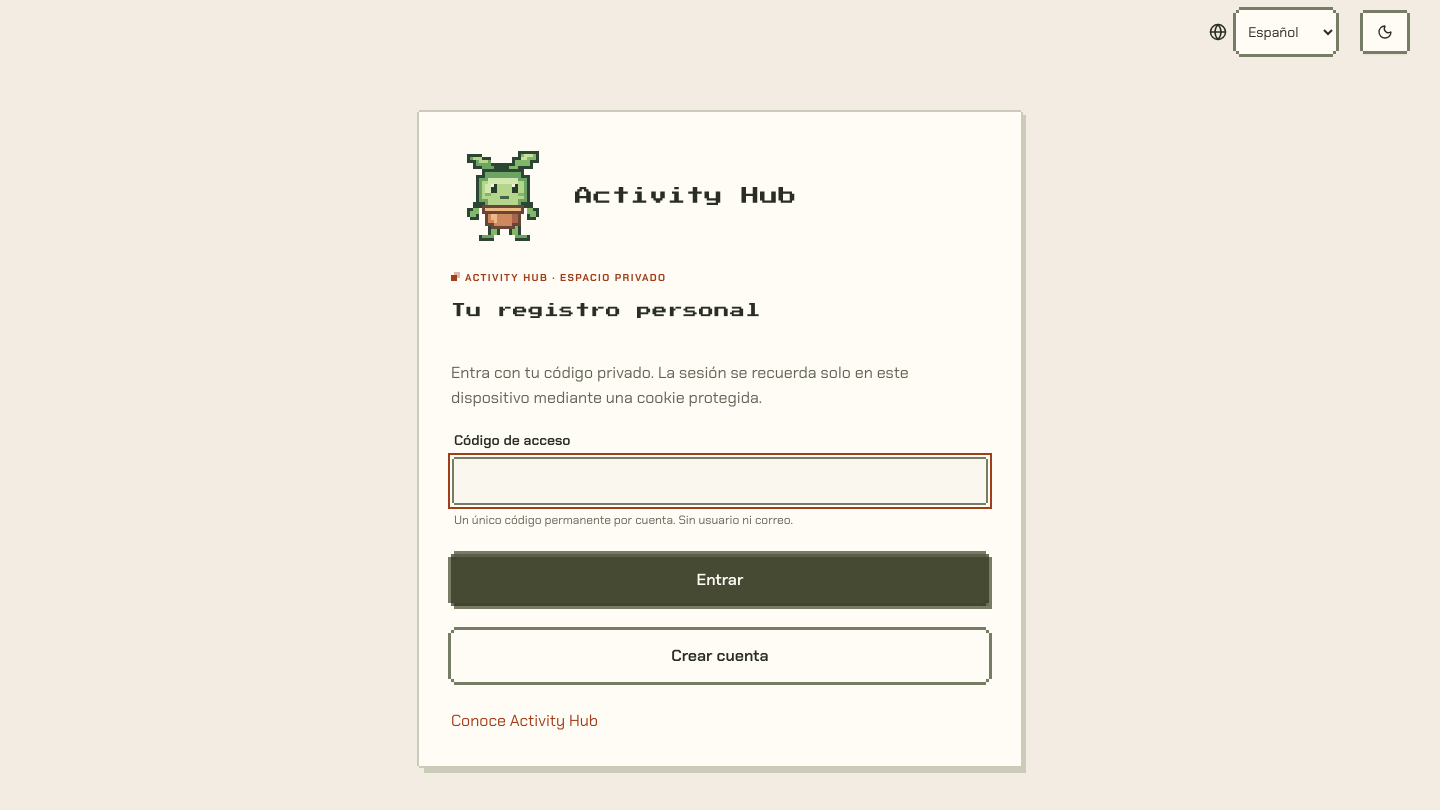
it: Interfaz bilingüe sin reiniciar la aplicación › traduce un error ya mostrado y conserva el límite de intentos
Type "ABCD-EFGH-JKLM-NPQR-STUV-WXYZ-2345-6789" into the password field labelled "Código de acceso" at (720, 481), box [454,459,986,503]
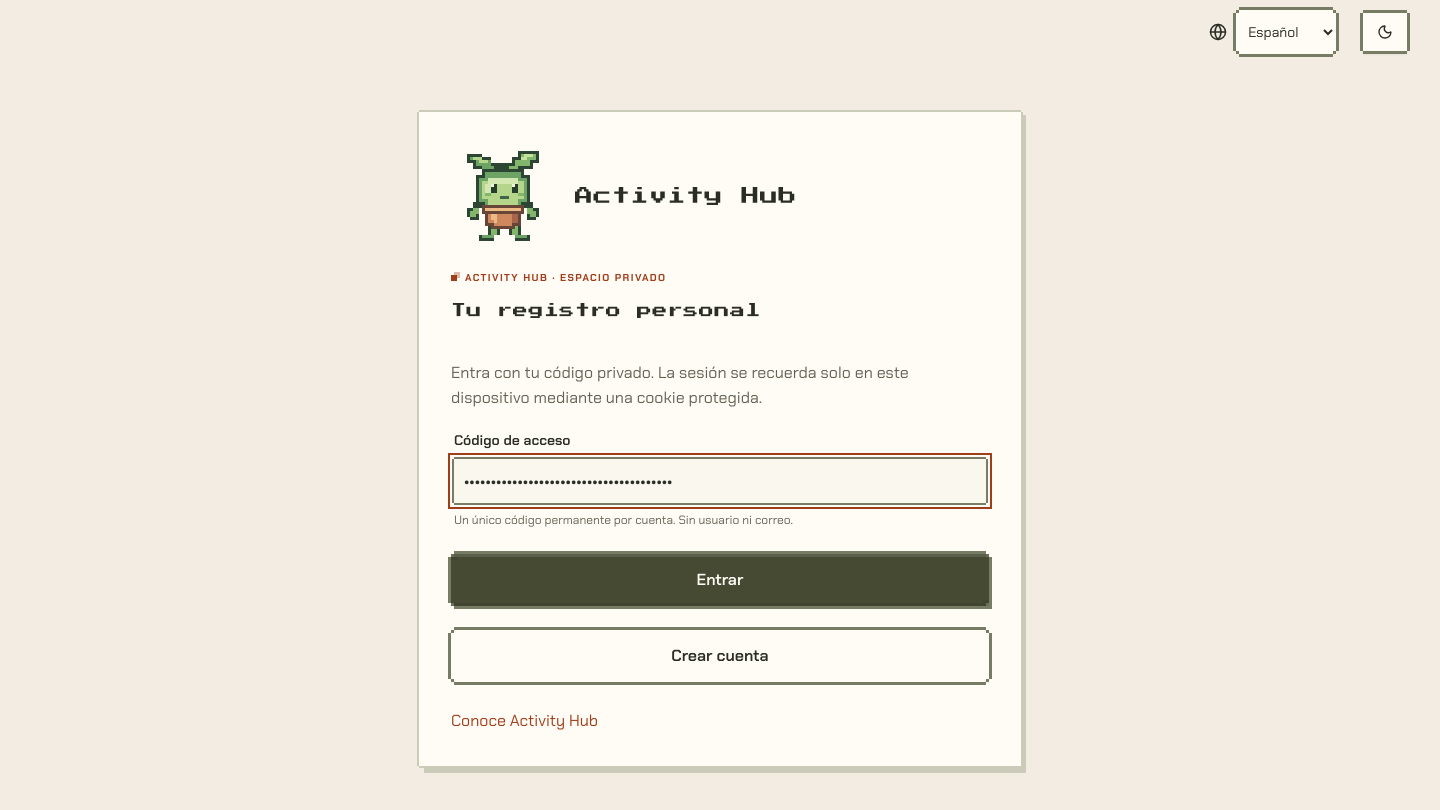
Click the button "Entrar" at (720, 580), box [451,554,989,606]
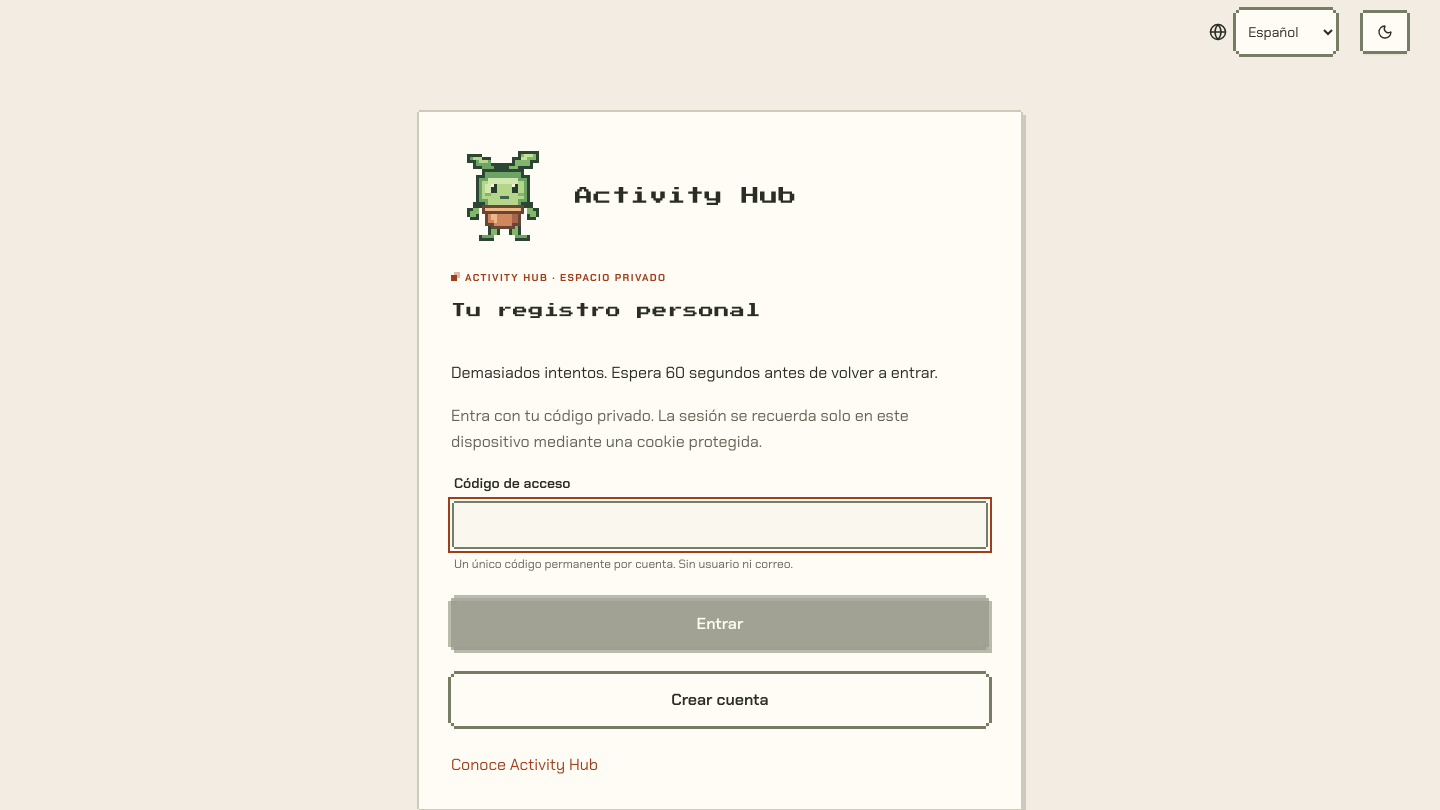
Expected: the text "Demasiados intentos" is shown, [451,362,938,382]
Select "English" in the dropdown named "Idioma" at (1286, 32), box [1236,10,1336,54]
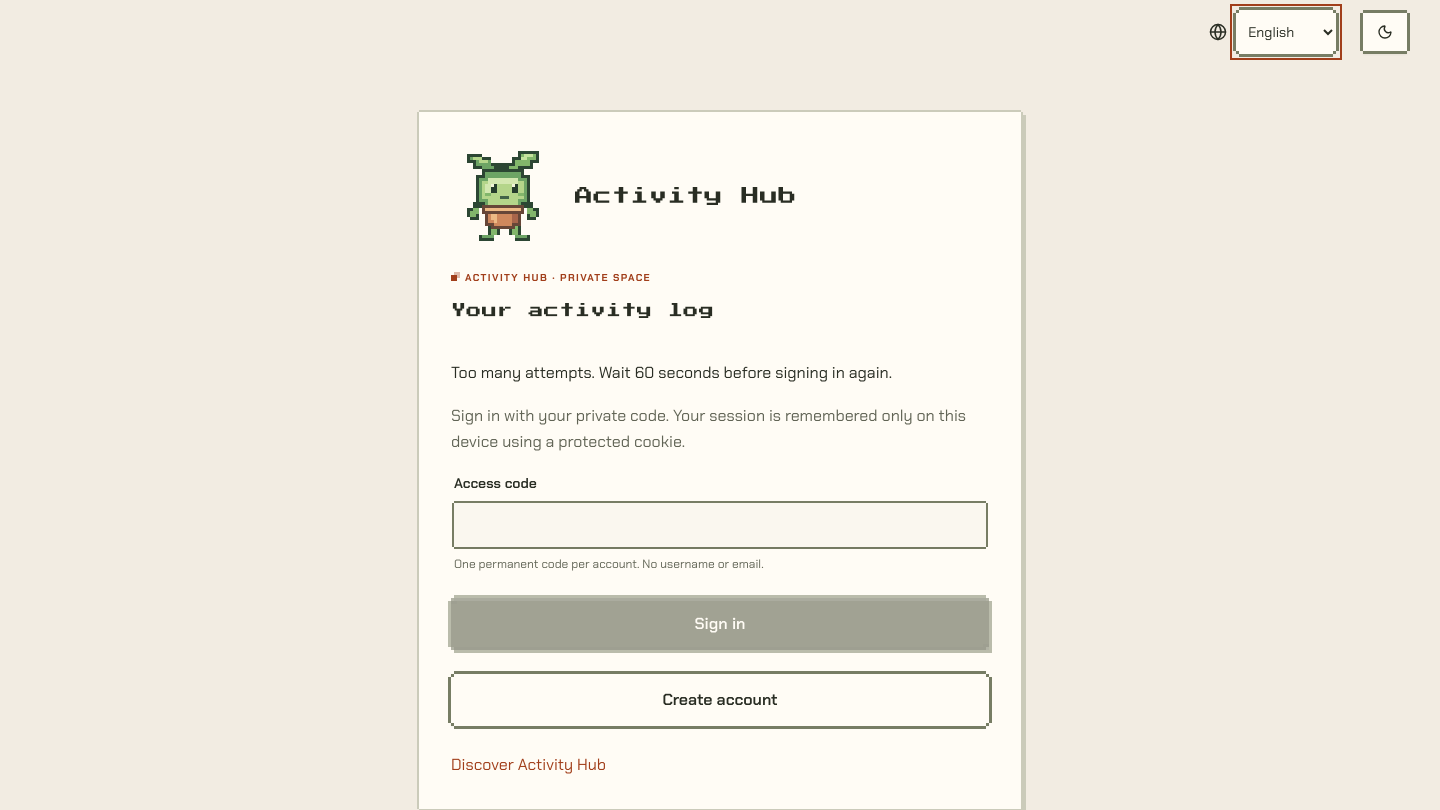
Expected: the button "Sign in" is disabled, [451,598,989,650]
Expected: the message shows "Wait 60 seconds before signing in again", [451,362,892,382]
Select "Español" in the dropdown named "Language" at (1286, 32), box [1236,10,1336,54]
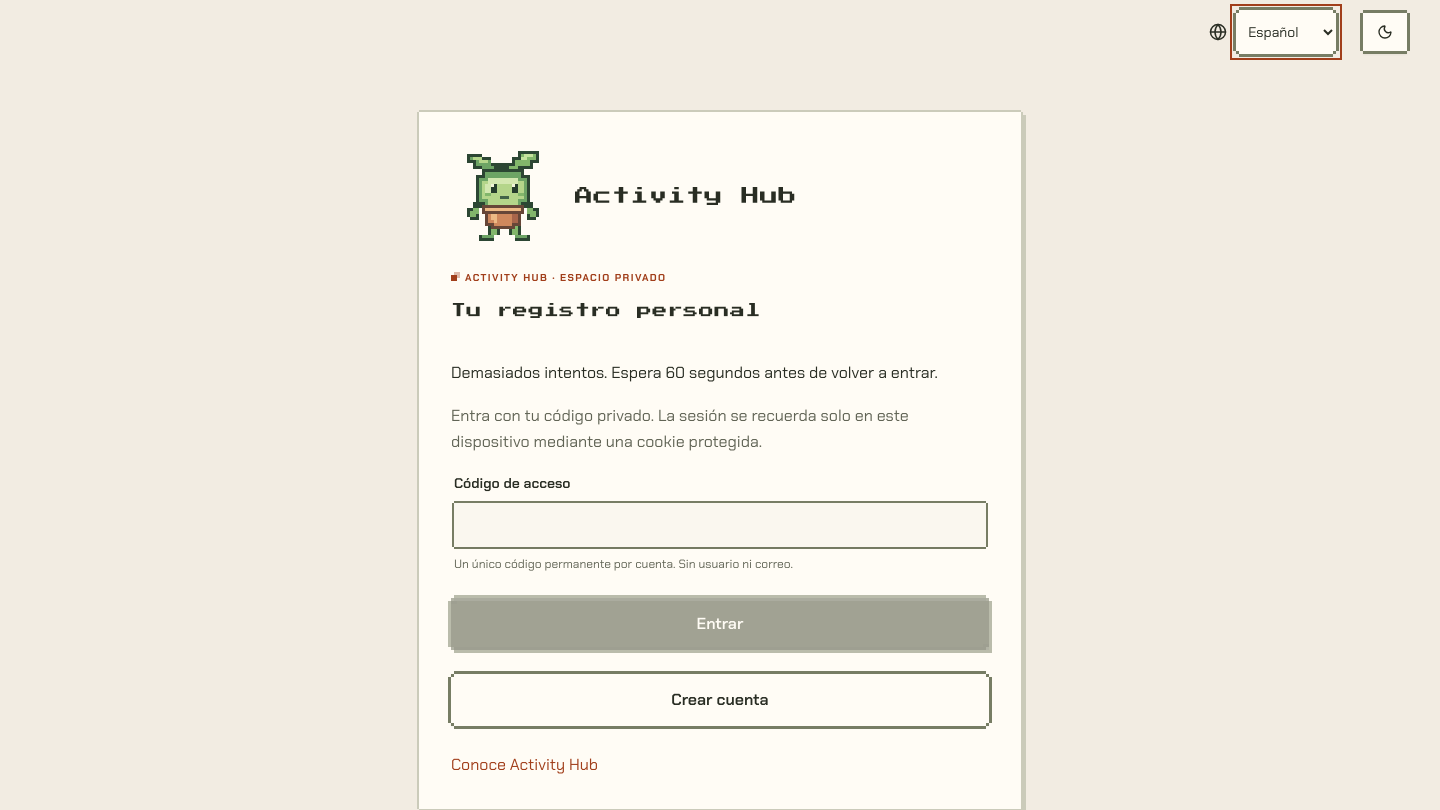
Expected: the message shows "Demasiados intentos", [451,362,938,382]
